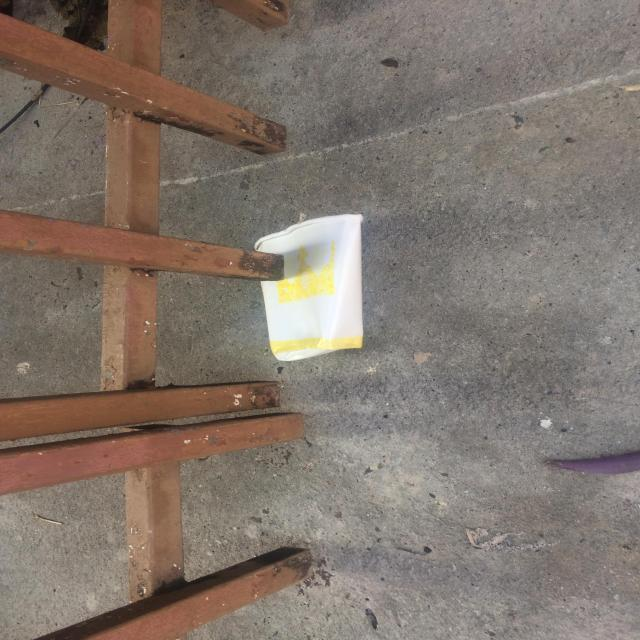litter: (370, 189, 573, 272)
